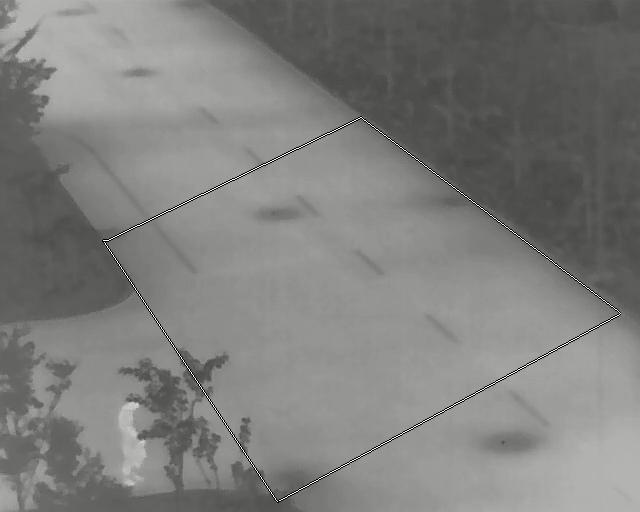person: (112, 390, 148, 487)
